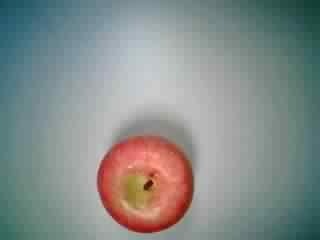apple: (93, 134, 199, 233)
